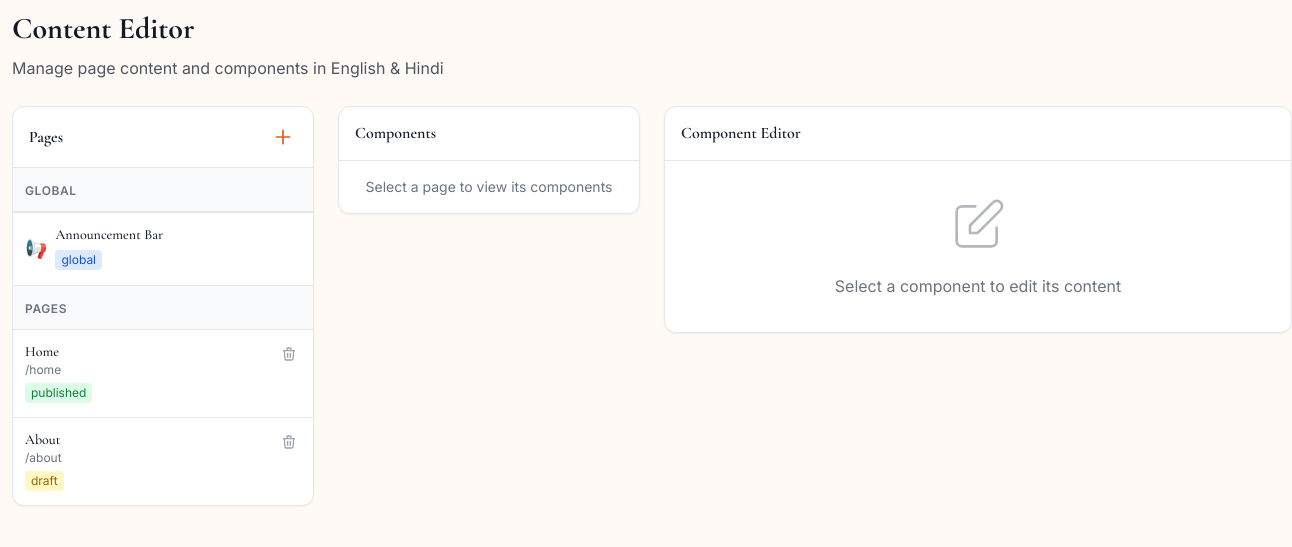
Scenario: CMSEditorPage - Global Components › loads component editor directly when clicking a global component
Note: Click on Announcement Bar in global section
Click the heading "Announcement Bar": coordinates (109, 235) x1=56 y1=226 x2=163 y2=243
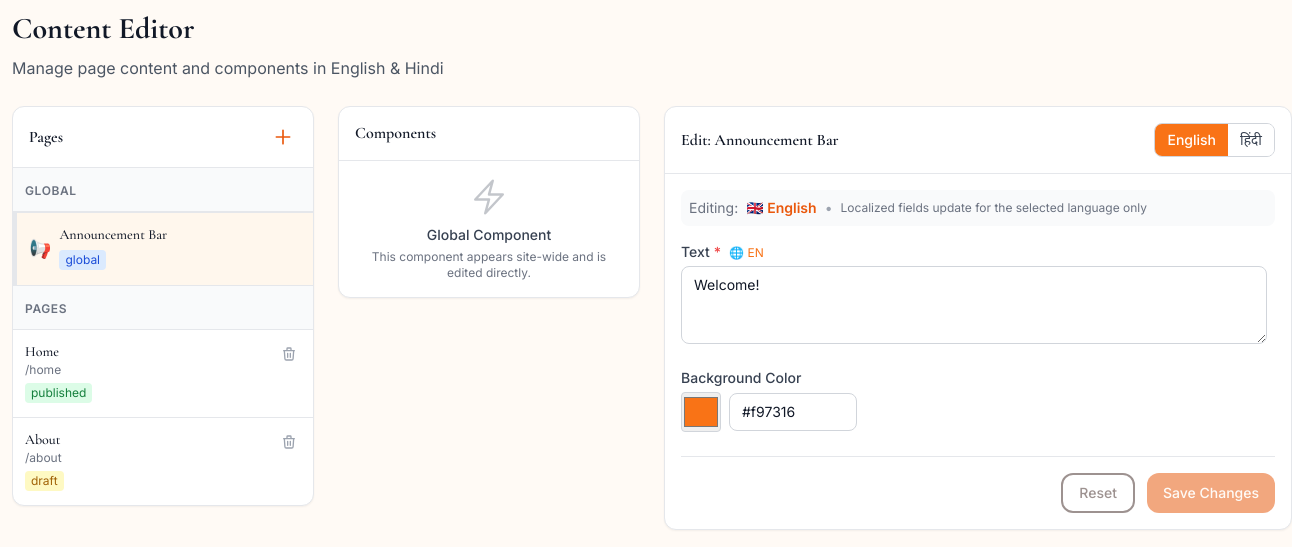
expect the heading "Edit: Announcement Bar" is shown: met, box x1=681 y1=130 x2=839 y2=151
